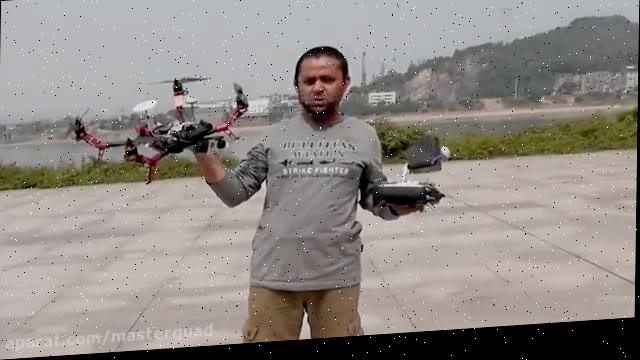drone: (59, 72, 252, 191)
